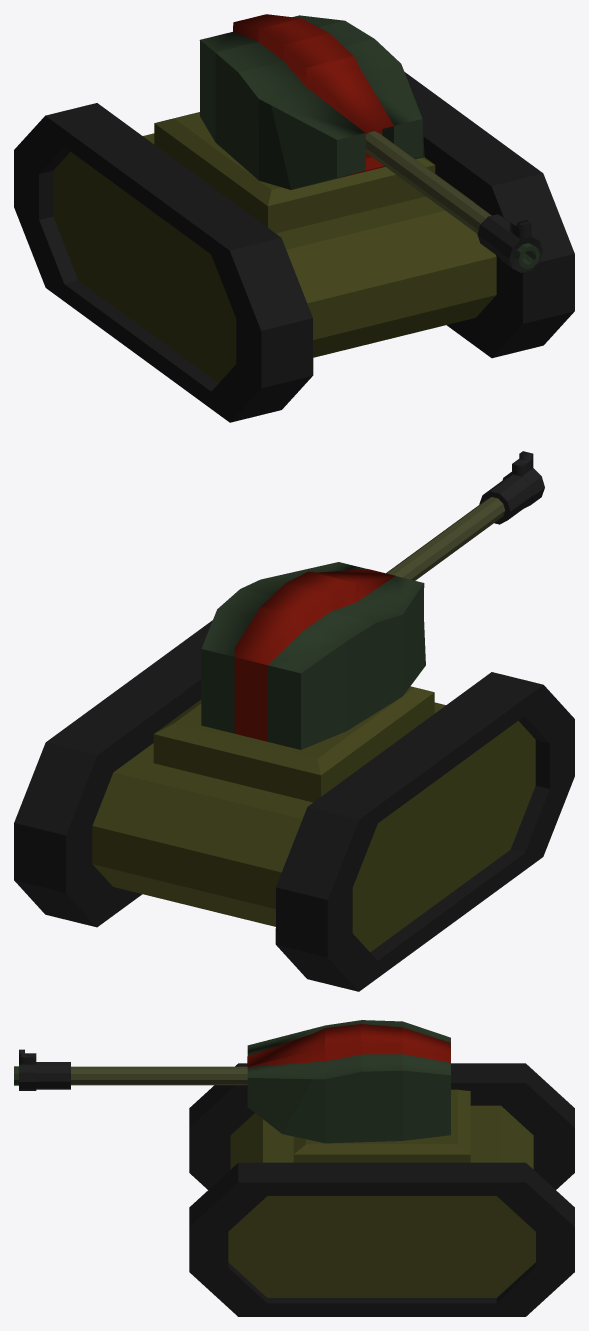
Rendered from NewP.fbx.
3 renders of one model, top to bottom at view 1: azimuth 30°, elevation 25°; view 2: azimuth 150°, elevation 25°; view 3: azimuth 270°, elevation 25°, orthographic. The views are drawn at different scales.
Parts seen in each view (by area): view 1: Panzer, Turret; view 2: Panzer, Turret; view 3: Panzer, Turret.
Part boxes in pixels (<box>): Panzer: <box>14,72,574,422</box>; Turret: <box>199,14,542,272</box>; Panzer: <box>14,620,574,991</box>; Turret: <box>201,451,544,749</box>; Panzer: <box>189,1063,574,1316</box>; Turret: <box>14,1020,450,1143</box>.
Size of the model in its own units: 181 by 159 by 360.
